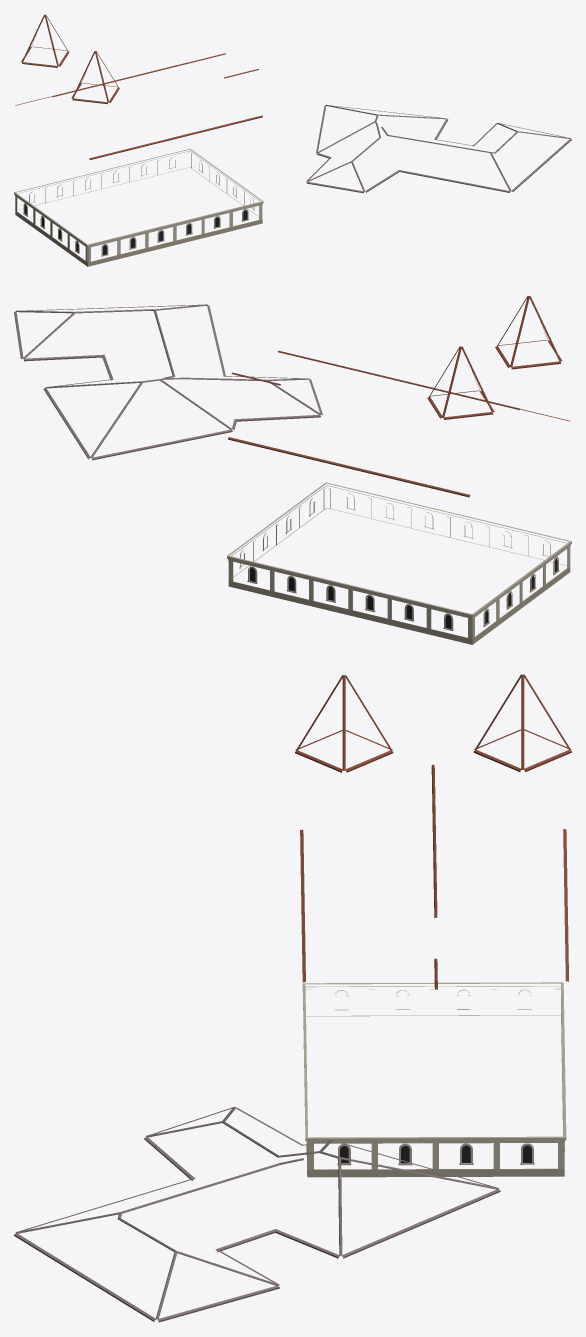
3 renders of one model, top to bottom at view 1: azimuth 30°, elevation 25°; view 2: azimuth 150°, elevation 25°; view 3: azimuth 270°, elevation 25°, orthographic. The views are drawn at different scales.
Parts seen in each view (by area): view 1: detail; view 2: detail; view 3: detail.
Part boxes in pixels (bbox=[...]): detail: bbox=[14, 14, 571, 266]; detail: bbox=[14, 296, 571, 644]; detail: bbox=[14, 674, 571, 1322].
Size of the model in its own units: 89.31 by 38.72 by 53.61.
